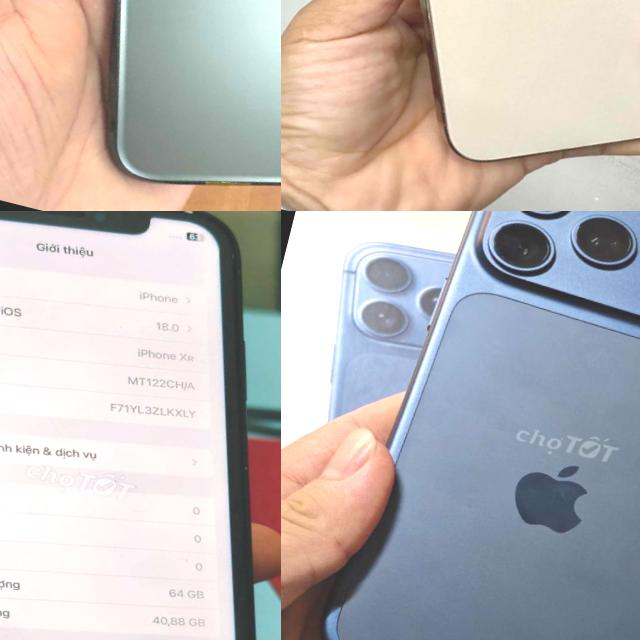gen_11: (17, 0, 281, 211)
gen_14: (298, 0, 640, 199)
gen_17: (312, 211, 640, 640)
gen_x_xs: (0, 211, 254, 640)
